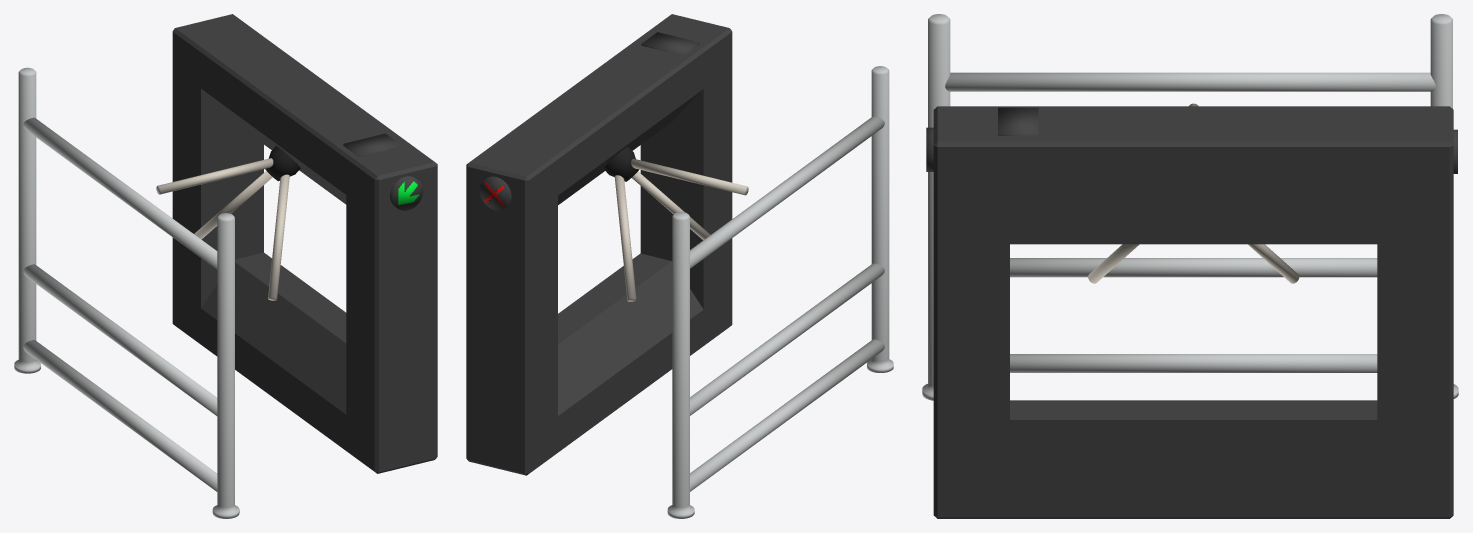
3 renders of one model, left to right at view 1: azimuth 30°, elevation 25°; view 2: azimuth 150°, elevation 25°; view 3: azimuth 270°, elevation 25°, orthographic. The views are drawn at different scales.
Visible parts, largest first — view 1: Catraca, Protecao, BaseGiratoria; view 2: Catraca, Protecao, BaseGiratoria; view 3: Catraca, Protecao, BaseGiratoria.
Part boxes in pixels (x1,y1,x2,y2): Catraca: (172, 14, 437, 473); Protecao: (14, 67, 239, 518); BaseGiratoria: (156, 146, 300, 300); Catraca: (466, 14, 732, 475); Protecao: (667, 66, 893, 518); BaseGiratoria: (603, 146, 748, 301); Catraca: (926, 106, 1457, 518); Protecao: (922, 14, 1458, 400); BaseGiratoria: (1088, 103, 1299, 283).
Bounding box in the file's own units: 81.32 × 106 × 134.
3 materials, 3 textured.
